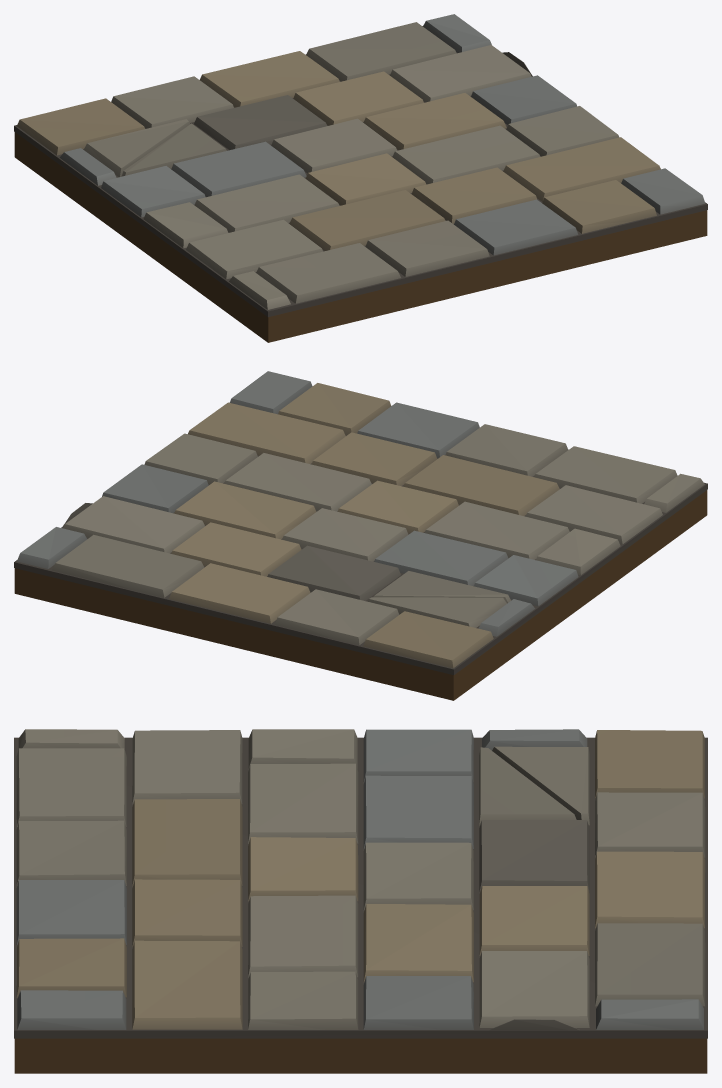
The model's file is sidewalk-trottoir-01.glb.
3 renders of one model, top to bottom at view 1: azimuth 30°, elevation 25°; view 2: azimuth 150°, elevation 25°; view 3: azimuth 270°, elevation 25°, orthographic. The views are drawn at different scales.
Visible parts, largest first — view 1: sidewalk_trottoir_01; view 2: sidewalk_trottoir_01; view 3: sidewalk_trottoir_01.
Boxes of the visible parts, x1,y1,x2,y2 form: sidewalk_trottoir_01: (14, 14, 707, 342); sidewalk_trottoir_01: (14, 371, 707, 700); sidewalk_trottoir_01: (14, 729, 707, 1073).
Size of the model in its own units: 4 by 0.3433 by 4.
